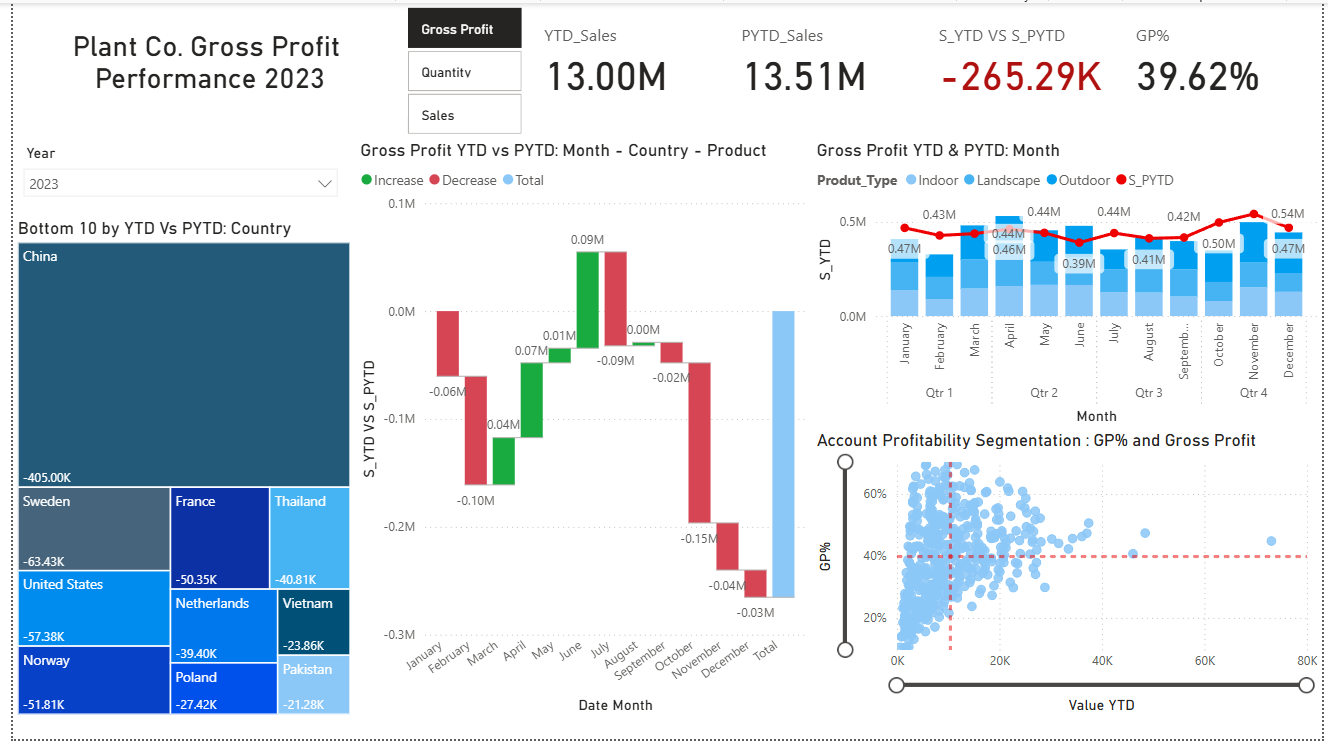

This screenshot's page, from the dashboard's own definition file:
{"tool":"powerbi","page":{"name":"Performance Report","canvas":[1280,720],"ordinal":0},"visuals":[{"type":"cardVisual","fields":{"Data":["__Measures.YTD_Sales","__Measures.PYTD_Sales","__Measures.S_YTD VS S_PYTD","__Measures.GP%"]},"box":[502.4,0,777.6,112],"z":0},{"type":"slicer","fields":{"Values":["Dim_Date.Date.Variation.Date Hierarchy.Year"]},"box":[0,133.3,327.5,76.8],"z":1000},{"type":"treemap","title":"Bottom 10 by YTD Vs PYTD: Country","fields":{"Group":["Dim_Accounts.country"],"Values":["__Measures.S_YTD VS S_PYTD"]},"box":[0,210.1,334.9,490.7],"z":2000},{"type":"advancedSlicerVisual","fields":{"Values":["Slc_Values.Values"]},"box":[381.9,0,120.5,112],"z":3000},{"type":"waterfallChart","fields":{"Y":["__Measures.S_YTD VS S_PYTD"],"Category":["Dim_Date.Date.Variation.Date Hierarchy.Month","Dim_Accounts.country"]},"box":[334.9,133.3,445.9,566.4],"z":4000},{"type":"lineStackedColumnComboChart","fields":{"Y":["__Measures.S_YTD"],"Category":["Dim_Date.Date.Variation.Date Hierarchy.Quarter","Dim_Date.Date.Variation.Date Hierarchy.Month"],"Y2":["__Measures.S_PYTD"],"Series":["Dim_Product.Produt_Type"]},"box":[780.8,133.3,499.2,283.7],"z":5000},{"type":"scatterChart","fields":{"Y":["__Measures.GP%"],"X":["__Measures.S_YTD"],"Category":["Dim_Accounts.Account"]},"box":[781,417,499,282],"z":6000},{"type":"card","fields":{"Values":["__Measures.-REPORT TITLE"]},"box":[0,0,386.1,112],"z":6001}]}

Visuals, with their boxes in screenshot pixels (x1, y1, x2, y2), scaled from the page's 1280x720 canvas onto the 1328x745 screenshot:
cardVisual - __Measures.YTD_Sales x __Measures.PYTD_Sales: 521/0/1327/116
slicer - Dim_Date.Date.Variation.Date Hierarchy.Year: 0/138/340/217
"Bottom 10 by YTD Vs PYTD: Country" treemap: 0/217/347/725
advancedSlicerVisual - Slc_Values.Values: 396/0/521/116
waterfallChart - __Measures.S_YTD VS S_PYTD x Dim_Date.Date.Variation.Date Hierarchy.Month: 347/138/810/724
lineStackedColumnComboChart - __Measures.S_YTD x Dim_Date.Date.Variation.Date Hierarchy.Quarter: 810/138/1327/431
scatterChart - __Measures.GP% x __Measures.S_YTD: 810/431/1327/723
card - __Measures.-REPORT TITLE: 0/0/401/116
